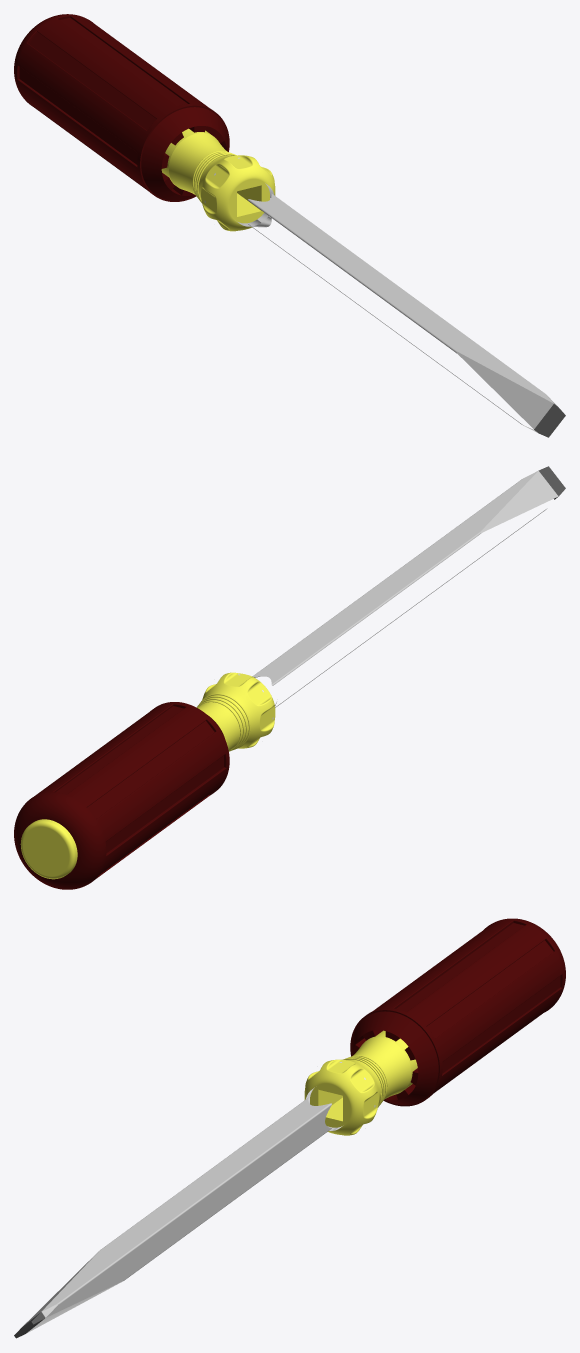
The model's file is Screwdriver_3d_modle.glb.
The picture shows the model from 3 angles, top to bottom: view 1: azimuth 30°, elevation 25°; view 2: azimuth 150°, elevation 25°; view 3: azimuth 330°, elevation 25°; orthographic projection.
Parts seen in each view (by area): view 1: Body1, Body2, Body1:2, Body1:1; view 2: Body1, Body2, Body1:2; view 3: Body1, Body2, Body1:2.
Part boxes in pixels (left/top/right/bottom): Body1: left=14, top=14, right=229, bottom=201; Body2: left=238, top=183, right=558, bottom=432; Body1:2: left=161, top=128, right=275, bottom=231; Body1:1: left=534, top=404, right=565, bottom=437; Body1: left=14, top=702, right=229, bottom=889; Body2: left=252, top=470, right=558, bottom=707; Body1:2: left=20, top=672, right=275, bottom=879; Body1: left=350, top=918, right=565, bottom=1106; Body2: left=22, top=1087, right=342, bottom=1333; Body1:2: left=304, top=1030, right=417, bottom=1135.
Bounding box in the file's own units: 34.6 × 34.6 × 341.
